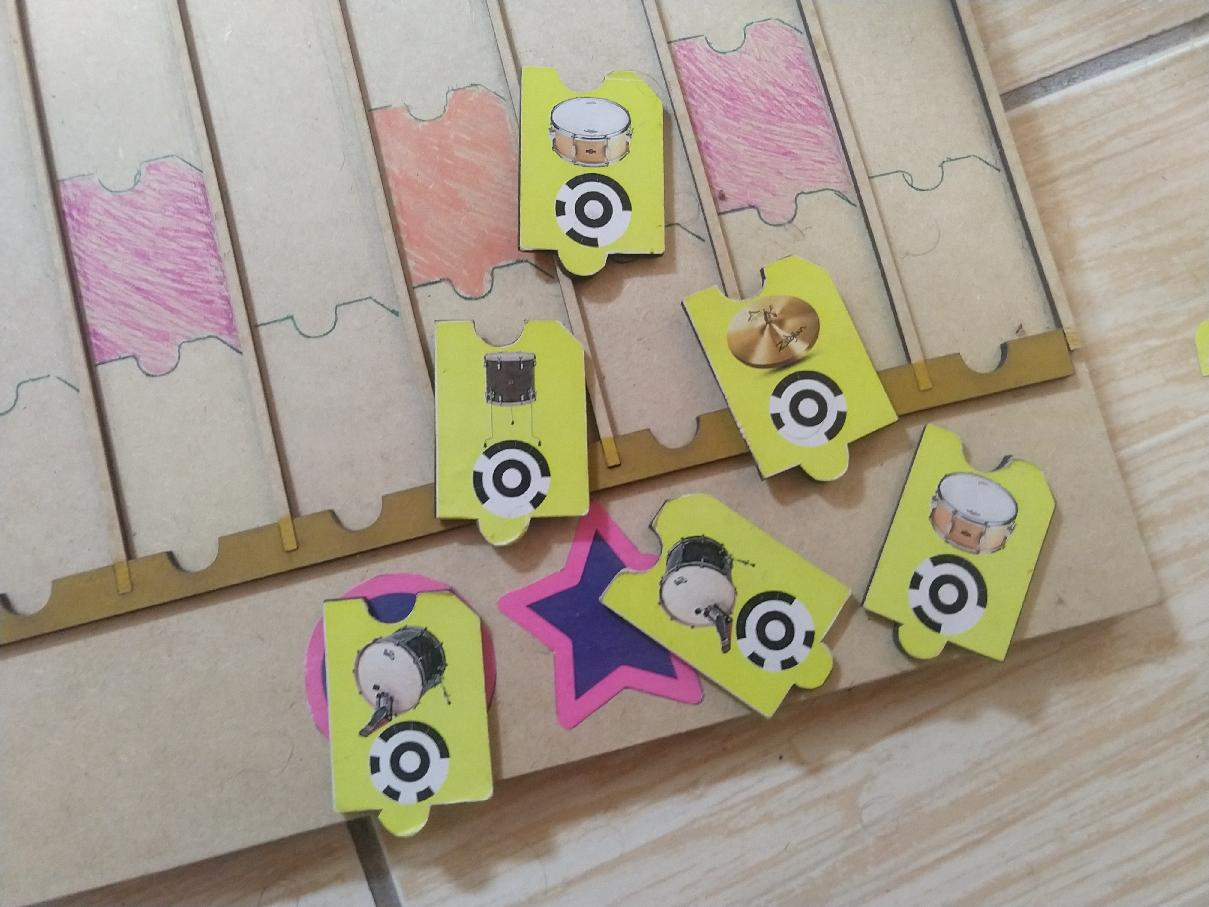bumbo: (594, 490, 854, 728), (322, 585, 496, 839)
